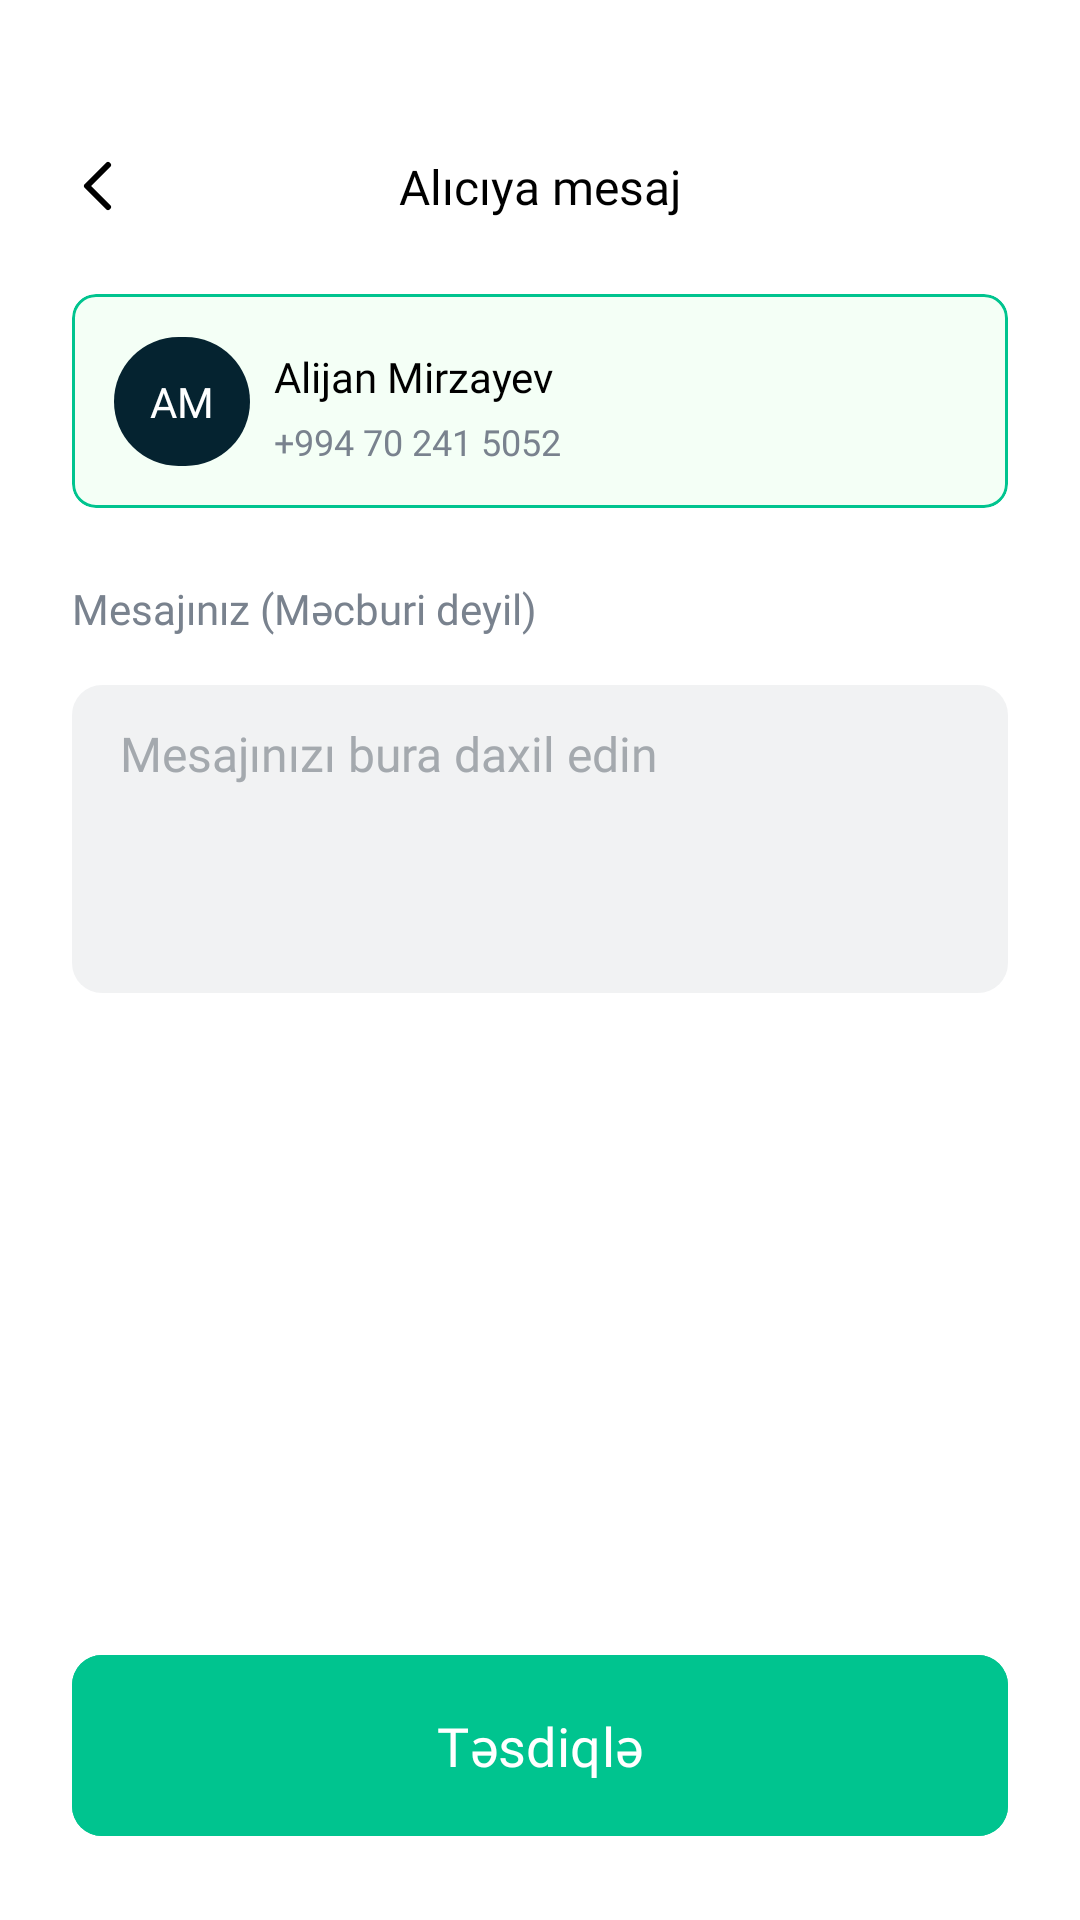

Named icons in this screenshot (1080x1920) and their centers, [x,y]:
back: [97,186]
